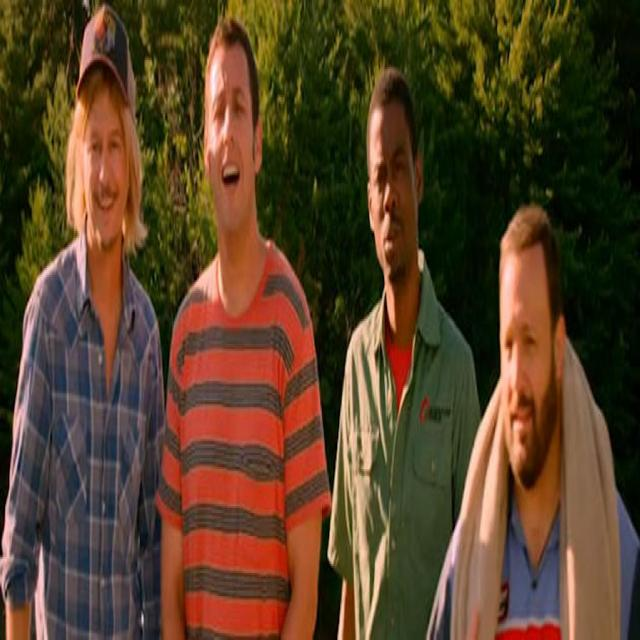nomask: (500, 254, 552, 483), (208, 46, 252, 236), (82, 78, 126, 243), (371, 106, 415, 271)
